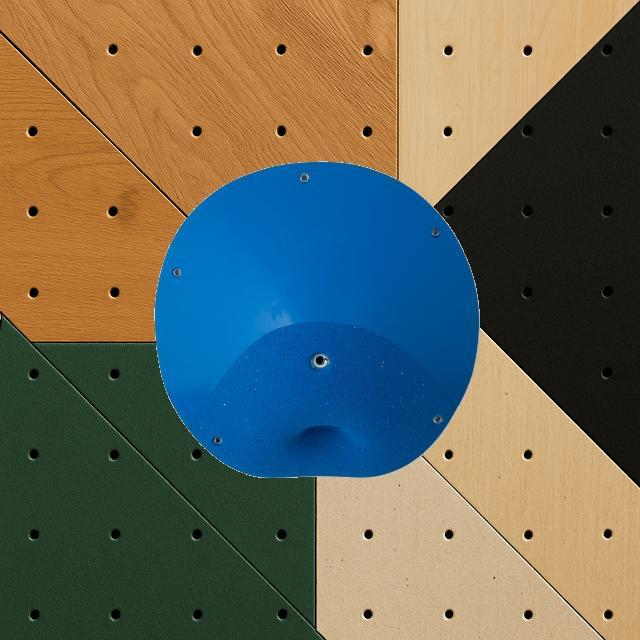Pocket: (151, 159, 481, 479)
